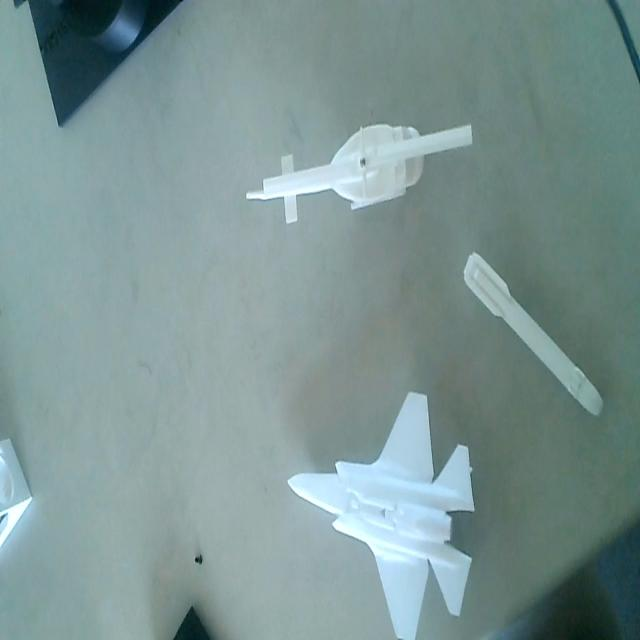Helicopter: (240, 115, 476, 221)
Jet: (286, 386, 475, 640)
Rocket: (460, 246, 605, 425)
